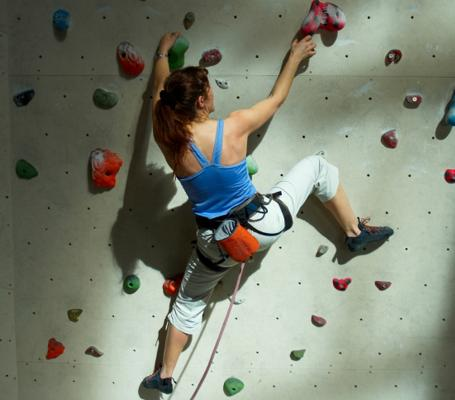person: (142, 31, 396, 395)
